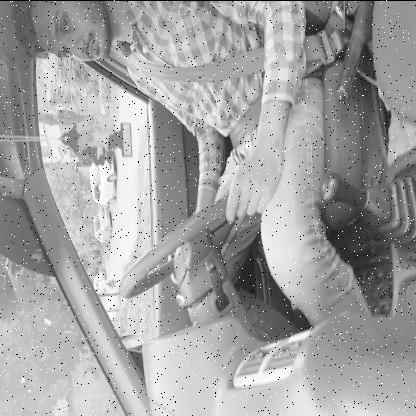seatbelt: (19, 0, 263, 100)
